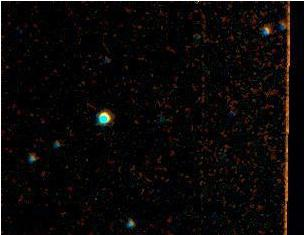star: (85, 101, 115, 131)
